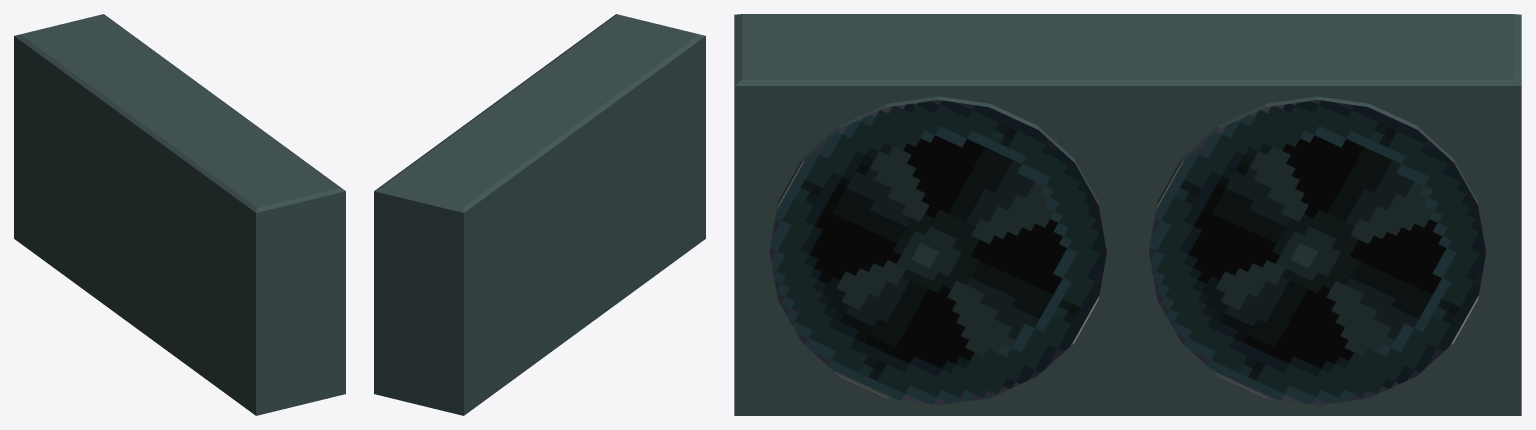
File: StorageCooller.fbx
The picture shows the model from 3 angles, left to right: view 1: azimuth 30°, elevation 25°; view 2: azimuth 150°, elevation 25°; view 3: azimuth 270°, elevation 25°; orthographic projection. The views are drawn at different scales.
Visible parts, largest first — view 1: Cube; view 2: Cube; view 3: Cube.
Part boxes in pixels (<box>): Cube: <box>14,14,345,415</box>; Cube: <box>374,14,705,415</box>; Cube: <box>734,14,1521,415</box>.
Size of the model in its own units: 42 by 90 by 187.
